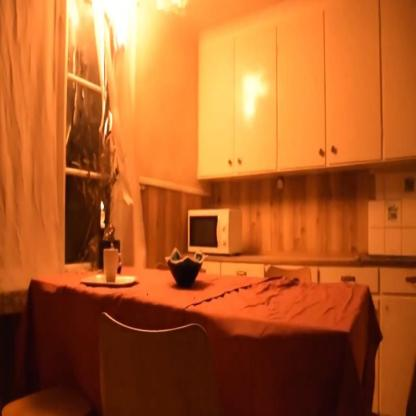fire: (67, 1, 192, 82), (98, 199, 106, 210)
